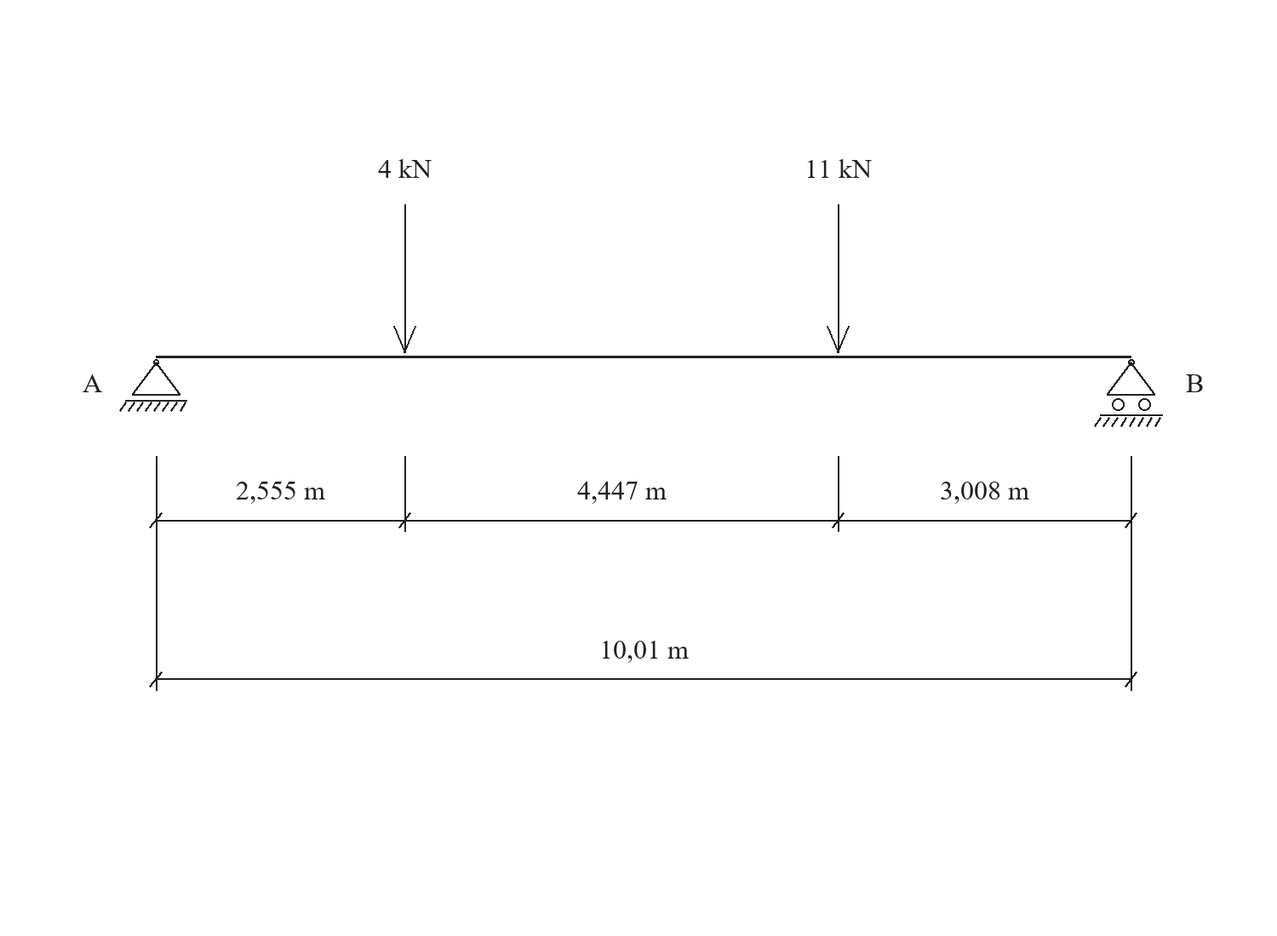pin_support: (119, 359, 187, 412)
point_load: (393, 204, 416, 353), (827, 204, 850, 353)
roller_support: (1094, 359, 1163, 427)
